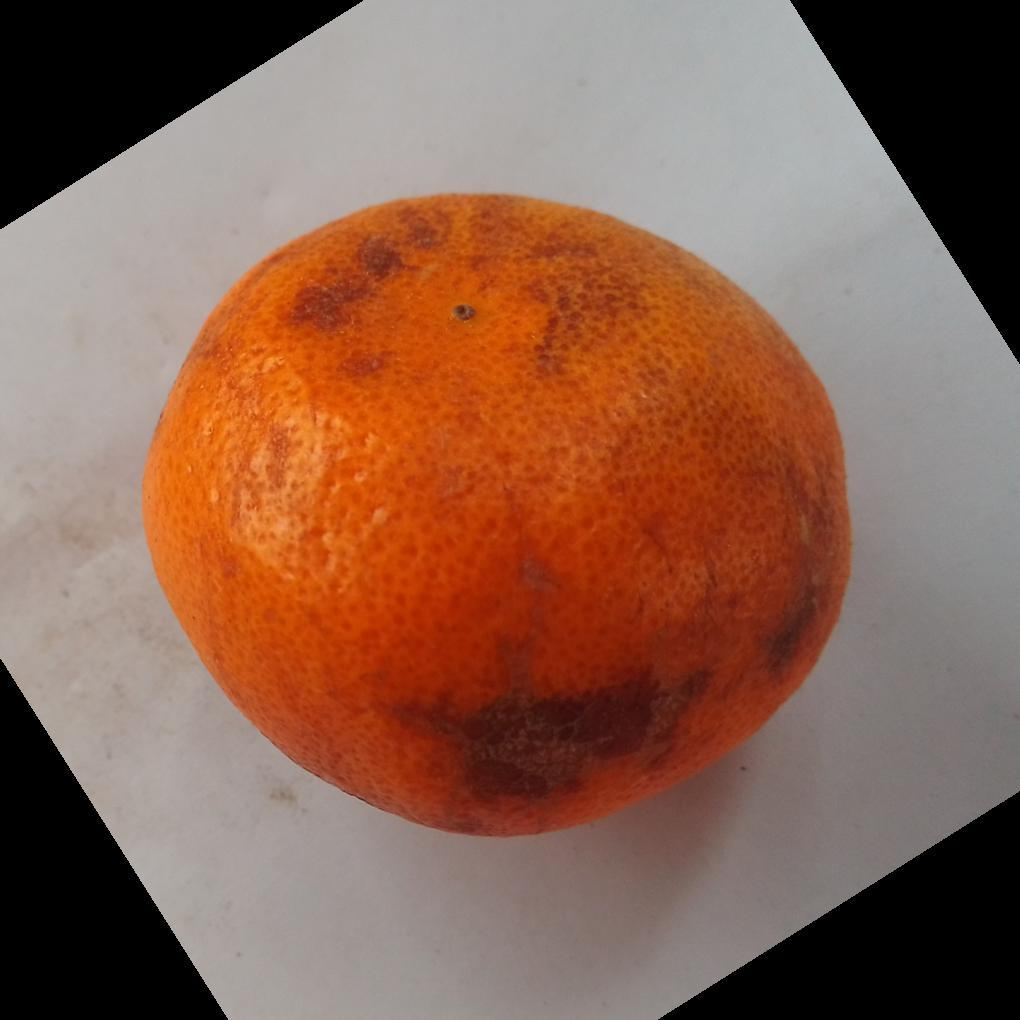FreshOrange: (140, 194, 854, 842)
